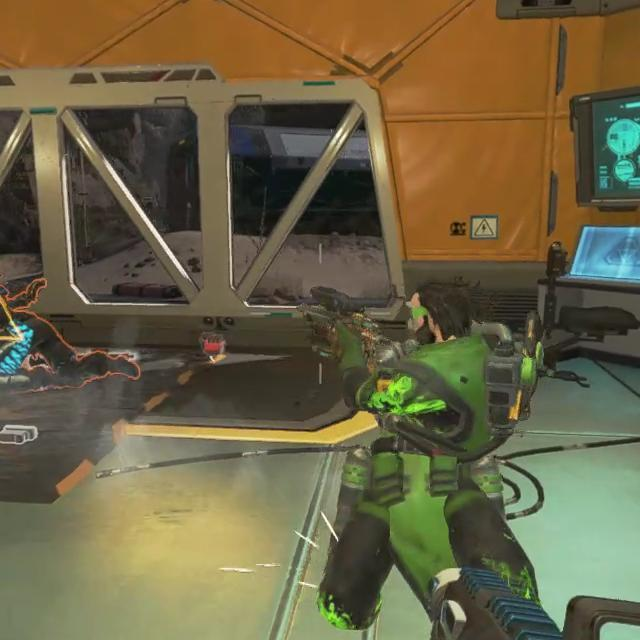avatar: (296, 285, 544, 632)
